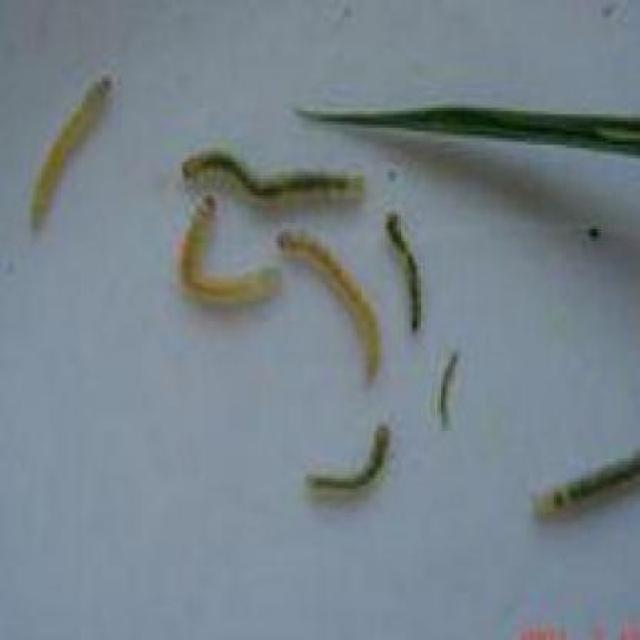leaf-folder: (266, 218, 392, 400), (171, 135, 374, 216), (170, 190, 290, 315), (32, 67, 118, 222), (280, 416, 409, 513), (368, 193, 442, 341), (531, 433, 640, 529), (420, 326, 471, 437)
